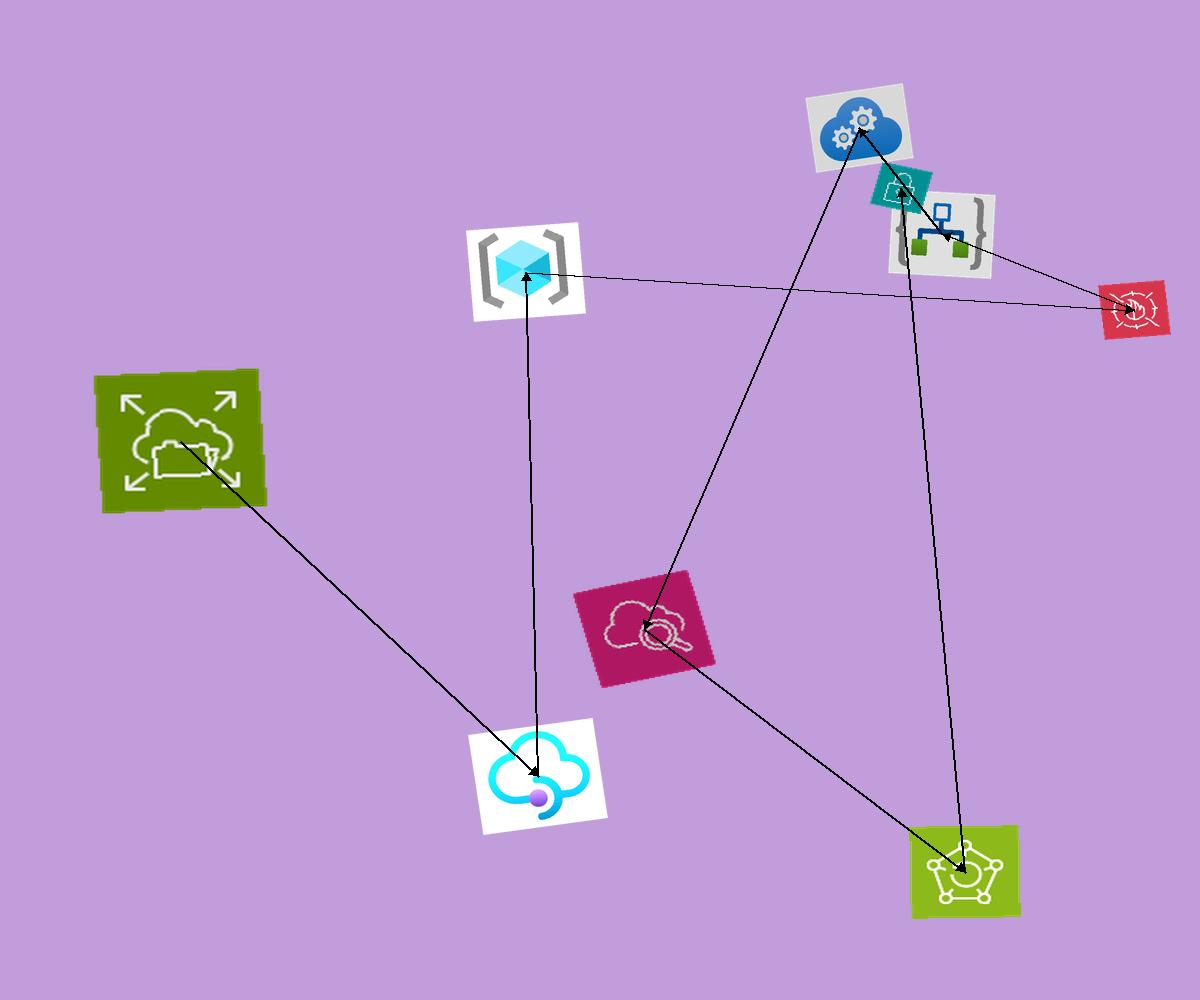AWS-Backup: (909, 825, 1021, 919)
AWS-CloudWatch: (572, 569, 717, 689)
AWS-EFS: (92, 367, 269, 515)
AWS-Private-subnet: (869, 161, 934, 215)
AWS-WAF: (1098, 280, 1171, 340)
Azure_api_gateway: (468, 718, 608, 835)
Azure_cloud_services: (805, 83, 914, 173)
Azure_integration-204-Logic-Apps: (888, 189, 996, 279)
Azure_resource_group: (466, 222, 586, 322)
